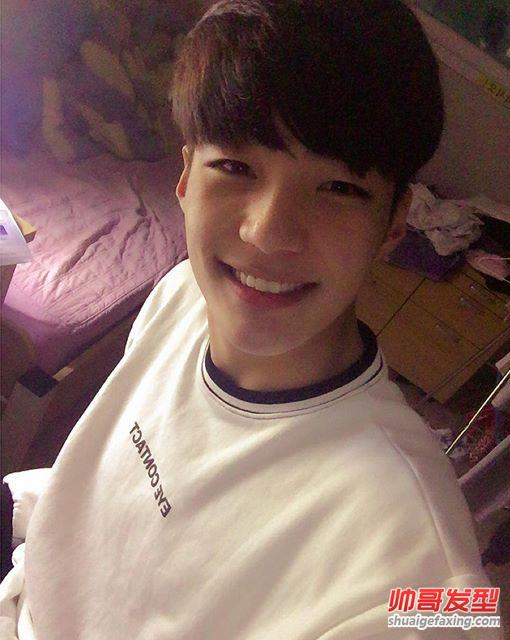person: (165, 16, 468, 521)
